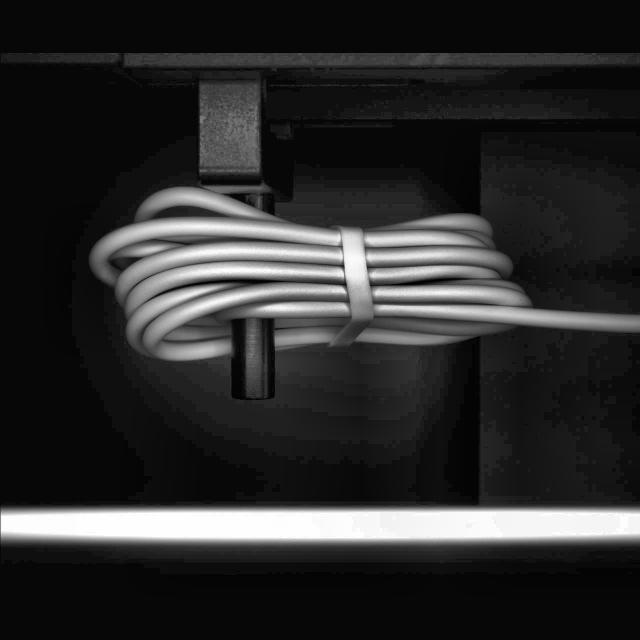Cable: (86, 183, 640, 367)
